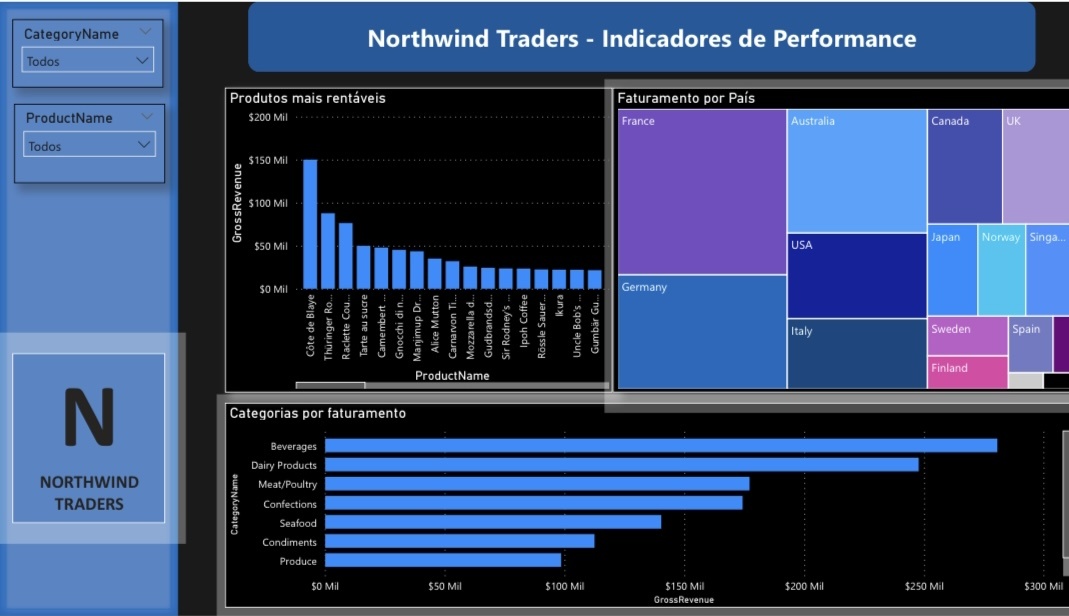

This screenshot's page, from the dashboard's own definition file:
{"tool":"powerbi","page":{"name":"Duplicata de Overview","canvas":[1280,720],"ordinal":1},"visuals":[{"type":"shape","box":[291.6,0,923.8,83.3],"z":0},{"type":"shape","box":[0,0,209.8,720],"z":1000},{"type":"slicer","fields":{"Values":["Product.CategoryName"]},"box":[16.4,20.8,177,80.3],"z":2000},{"type":"slicer","fields":{"Values":["Product.ProductName"]},"box":[17.9,120.5,177,92.2],"z":3000},{"type":"textbox","box":[16.4,412.1,178.5,199.3],"z":4000},{"type":"barChart","title":"Categorias por faturamento","fields":{"Category":["Product.CategoryName"],"Y":["Sum(Order_Details.GrossRevenue)"]},"box":[264.8,470.1,993.7,239.5],"z":5000},{"type":"columnChart","title":"Produtos mais rentáveis ","fields":{"Category":["Product.ProductName"],"Y":["Sum(Order_Details.GrossRevenue)"]},"box":[264.8,101.2,453.7,357],"z":6000},{"type":"treemap","title":"Faturamento por País ","fields":{"Group":["Suppliers.Country"],"Values":["Sum(Order_Details.GrossRevenue)"]},"box":[718.5,101.2,541.5,357],"z":7000}]}

Visuals, with their boxes in screenshot pixels (x1, y1, x2, y2), scaled from the page's 1280x720 canvas onto the 1069x616 screenshot:
shape: box=[244, 0, 1015, 71]
shape: box=[0, 0, 175, 615]
slicer - Product.CategoryName: box=[14, 18, 162, 86]
slicer - Product.ProductName: box=[15, 103, 163, 182]
textbox: box=[14, 353, 163, 523]
"Categorias por faturamento" barChart: box=[221, 402, 1051, 607]
"Produtos mais rentáveis " columnChart: box=[221, 87, 600, 392]
"Faturamento por País " treemap: box=[600, 87, 1052, 392]
